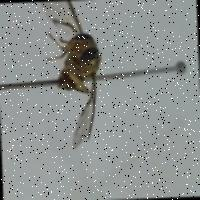Oriental-fruit-fly: (30, 0, 113, 150)
